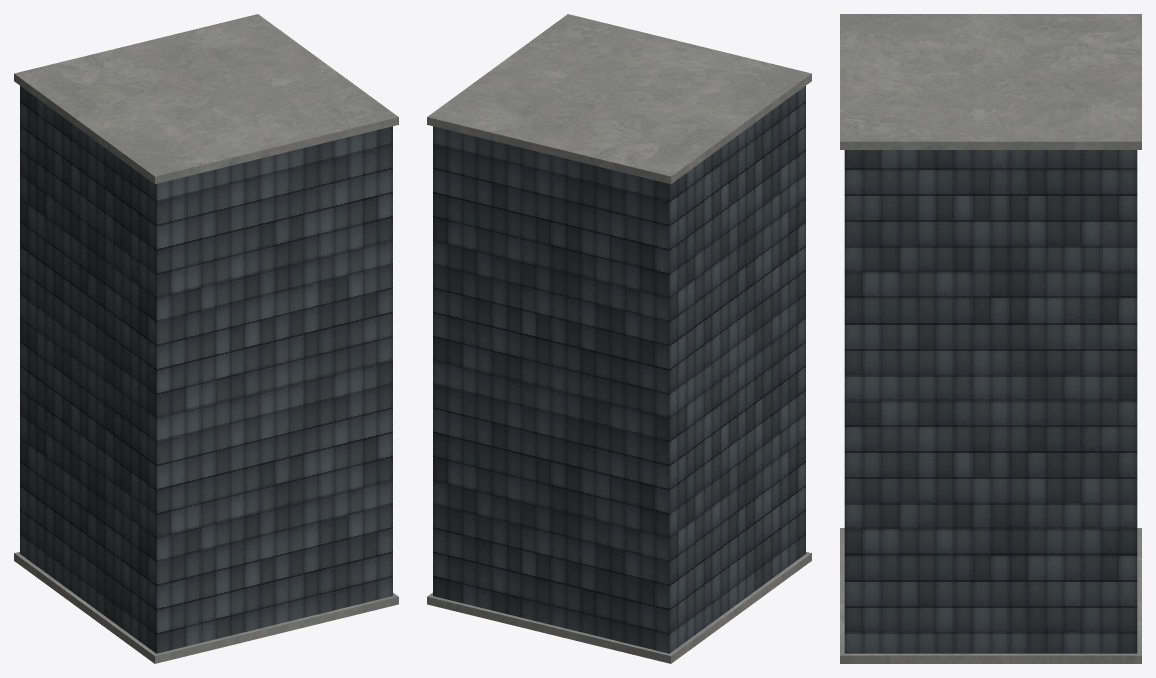
Rendered from building_04.2.glb.
3 renders of one model, left to right at view 1: azimuth 30°, elevation 25°; view 2: azimuth 150°, elevation 25°; view 3: azimuth 270°, elevation 25°, orthographic. The views are drawn at different scales.
Parts seen in each view (by area): view 1: building_04_22; view 2: building_04_22; view 3: building_04_22.
Boxes of the visible parts, bbox=[...] form: building_04_22: bbox=[14, 14, 398, 663]; building_04_22: bbox=[427, 14, 811, 663]; building_04_22: bbox=[840, 14, 1141, 663].
Bounding box in the file's own units: 33 × 63 × 33.
1 material, 1 textured.
